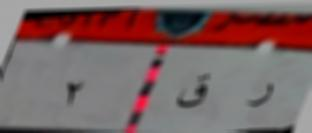2: (55, 72, 90, 115)
qaaf: (172, 66, 215, 116)
raa: (249, 73, 276, 116)
